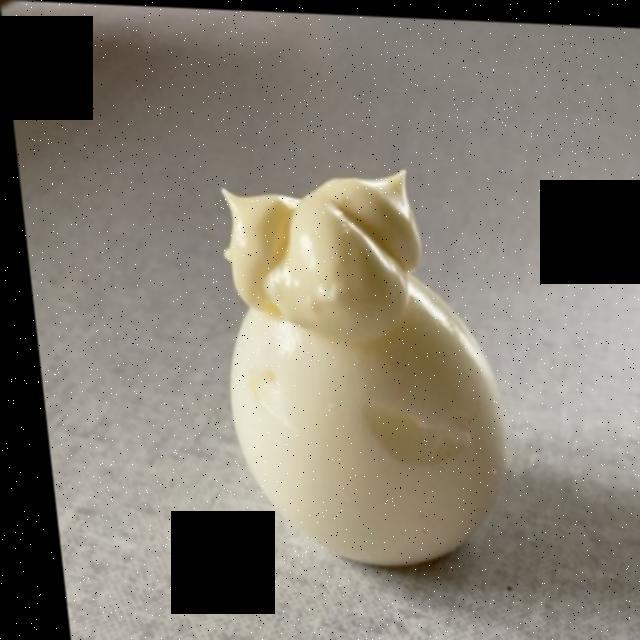egg: (216, 302, 507, 561)
mayonnaise: (203, 162, 427, 336)
